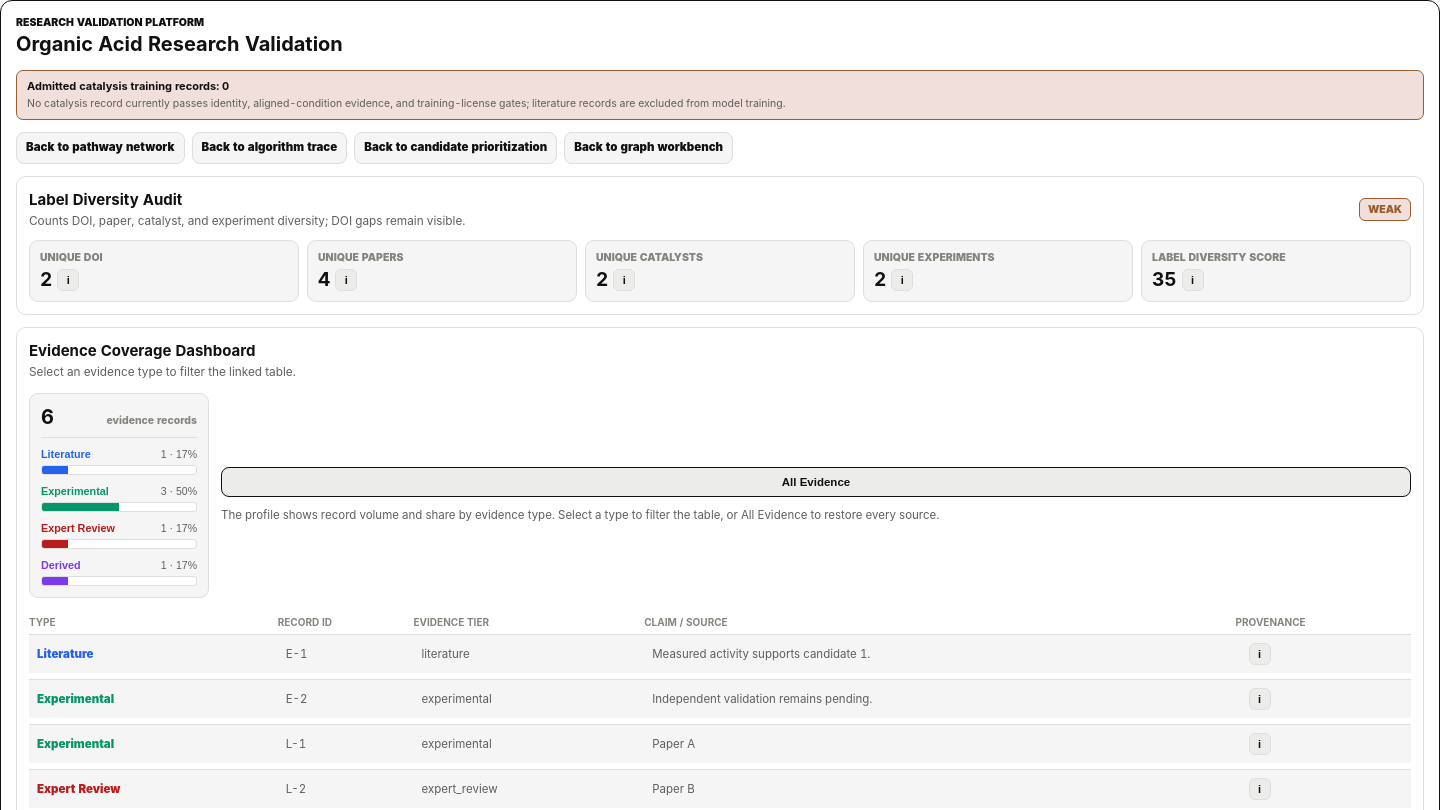
Test: OrganicAcidResearchValidationCenter › renders the final research validation entry with audit, coverage, matrix, queue, and graph modules
Expected: the element with test id "label-diversity-audit" is shown, x1=16 y1=176 x2=1424 y2=315
Expected: the link "Back to pathway network" is shown, x1=16 y1=132 x2=184 y2=164
Step 1. Click the button named "field-level provenance" → coordinates (68, 280), box x1=57 y1=269 x2=79 y2=291
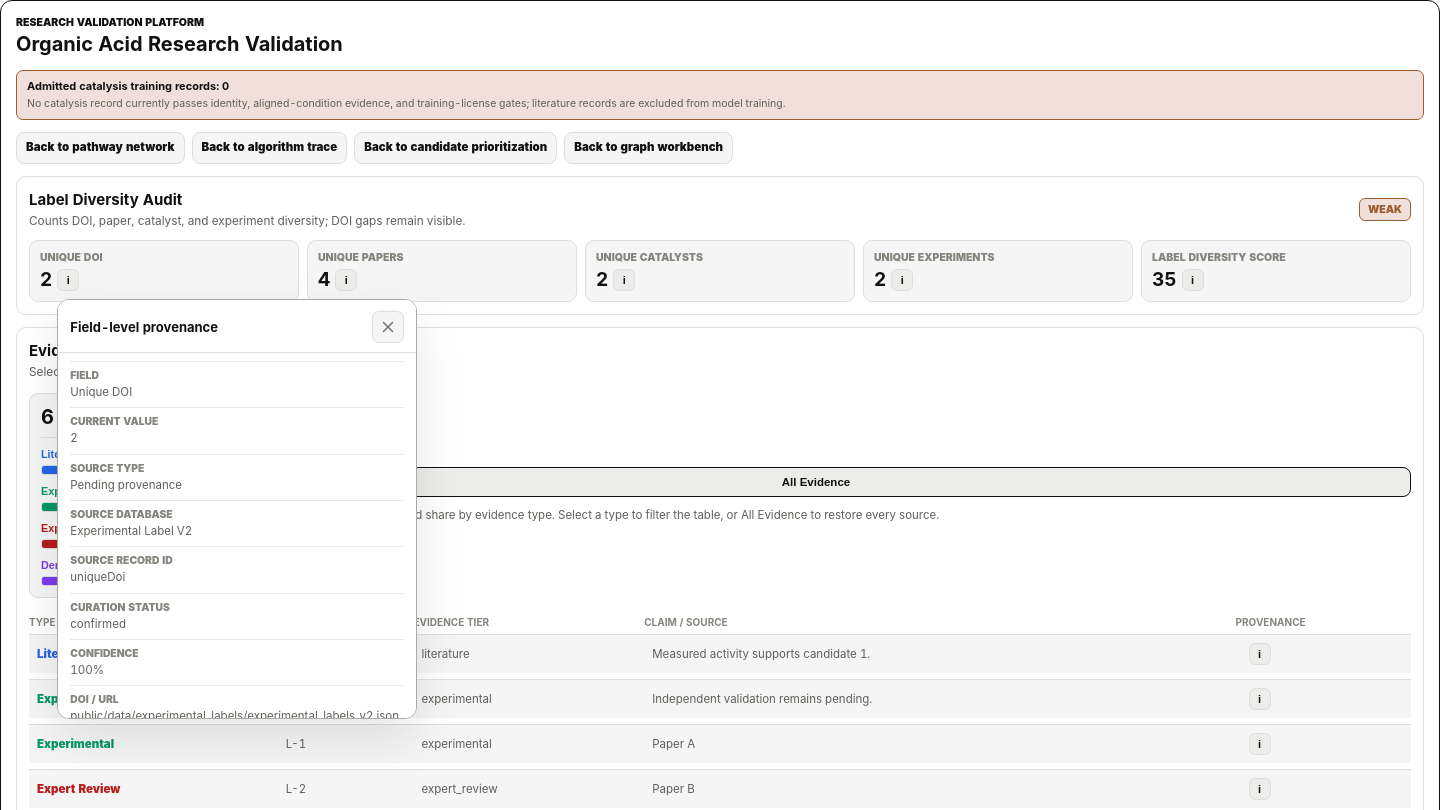
Now the dialog with test id "field-provenance-popover" is shown, box x1=57 y1=299 x2=417 y2=719
